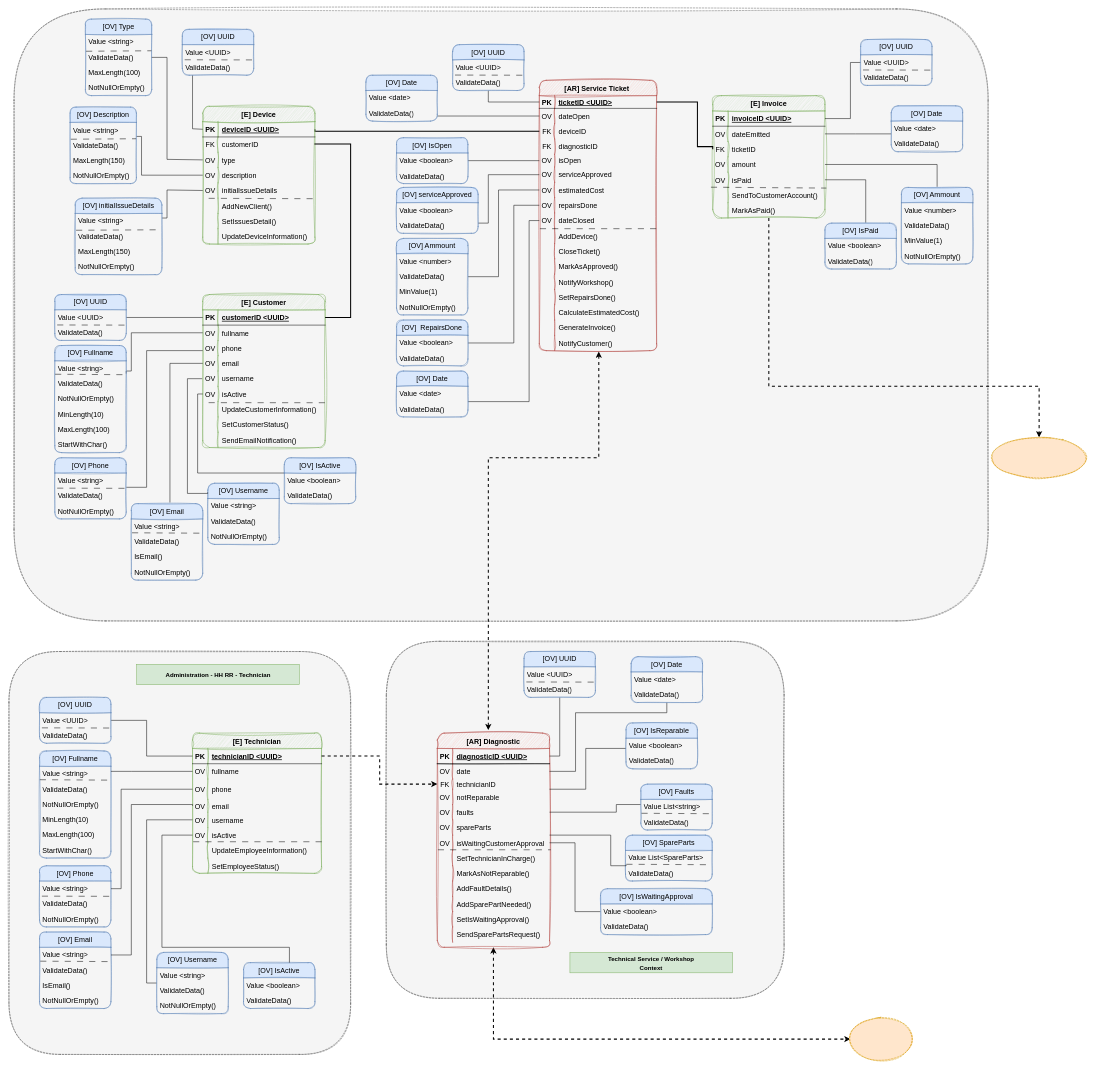
The diagram is 1109 pixels wide and 1068 high, and some of its shapes have lost their labels. Here are the shapes that lost their labels. From the top down, the centre of each, then its label:
[1039,457]: Administration - Accounting
[881,1039]: Stock / Inventory
